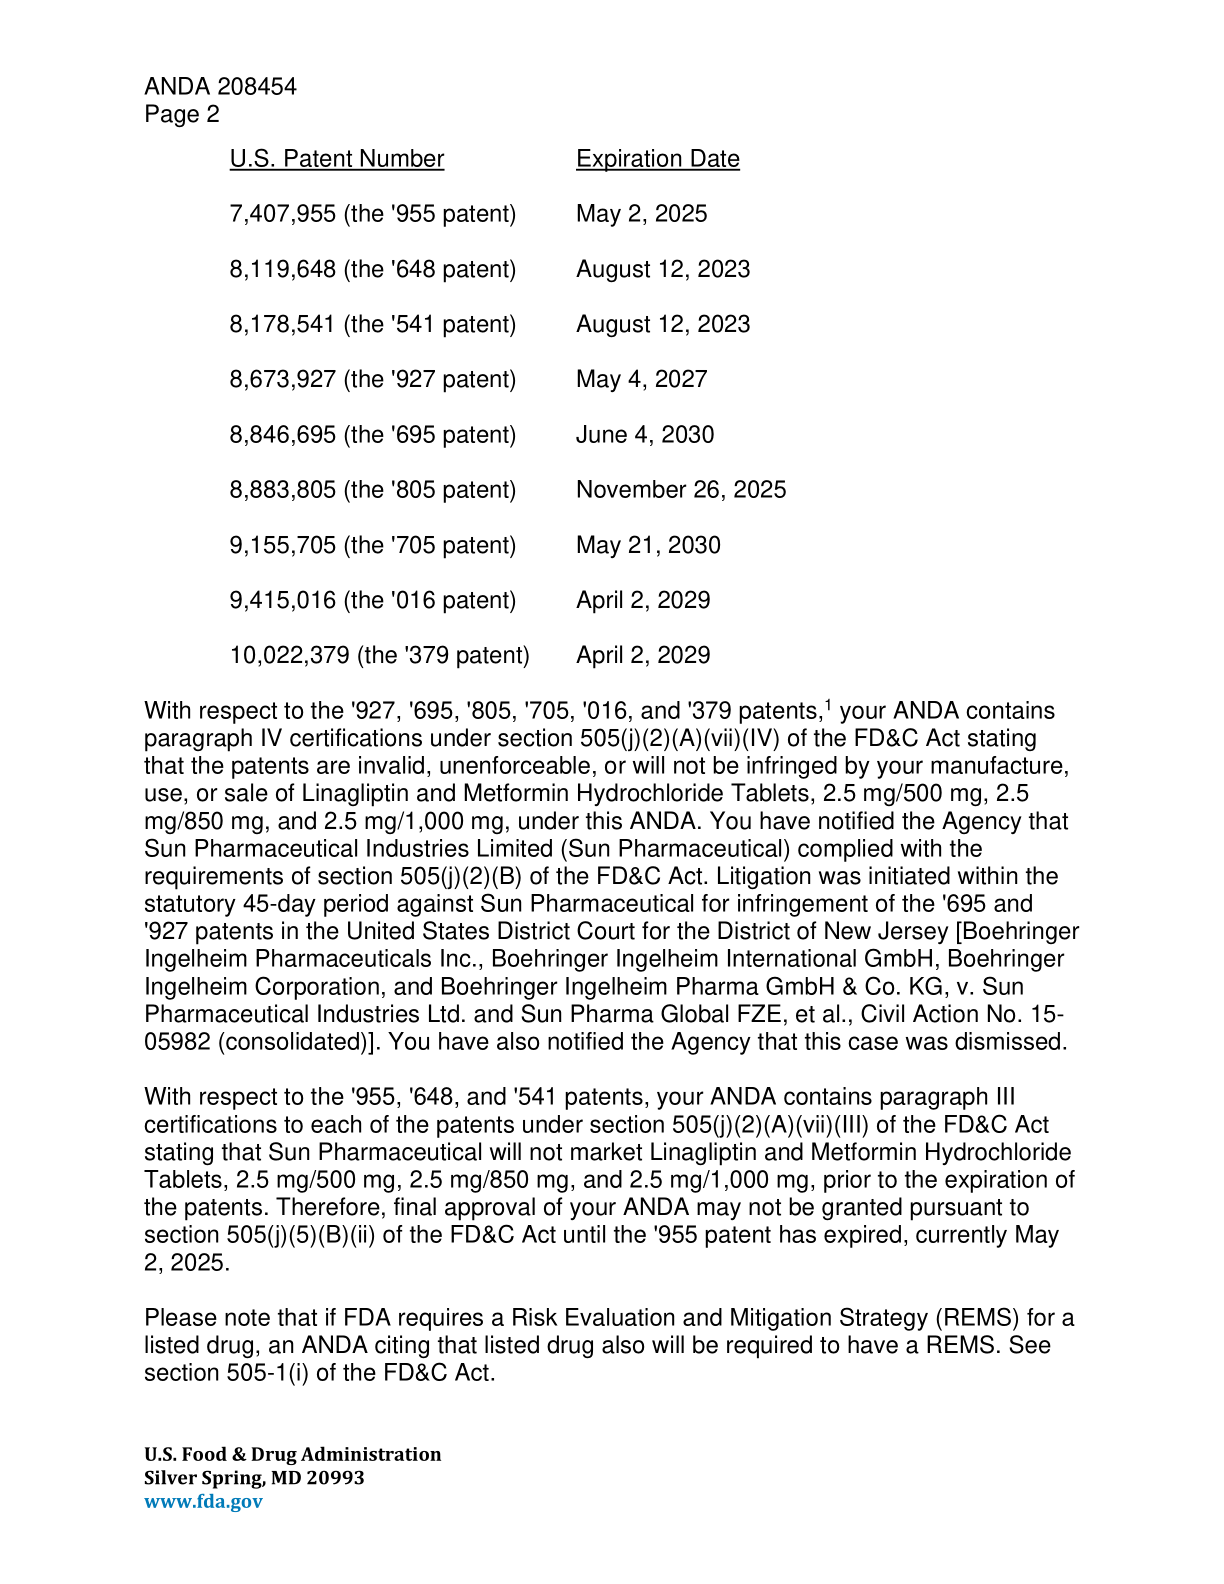nolines: (226, 144, 789, 667)
